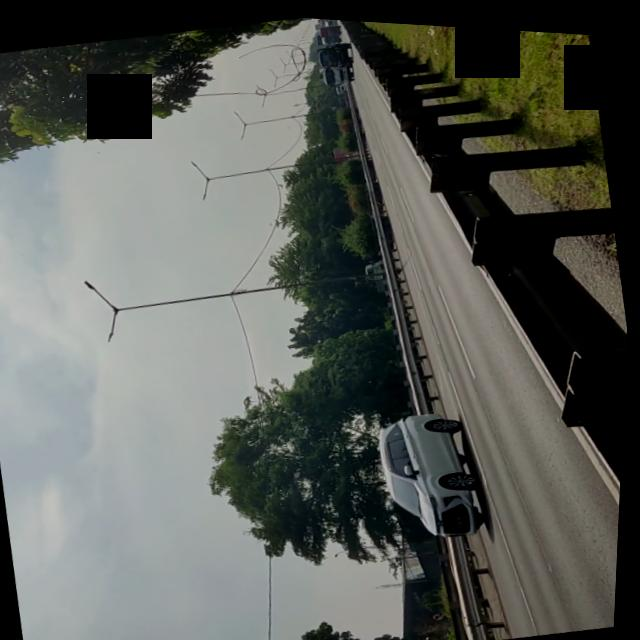Golongan I: (359, 390, 503, 544)
